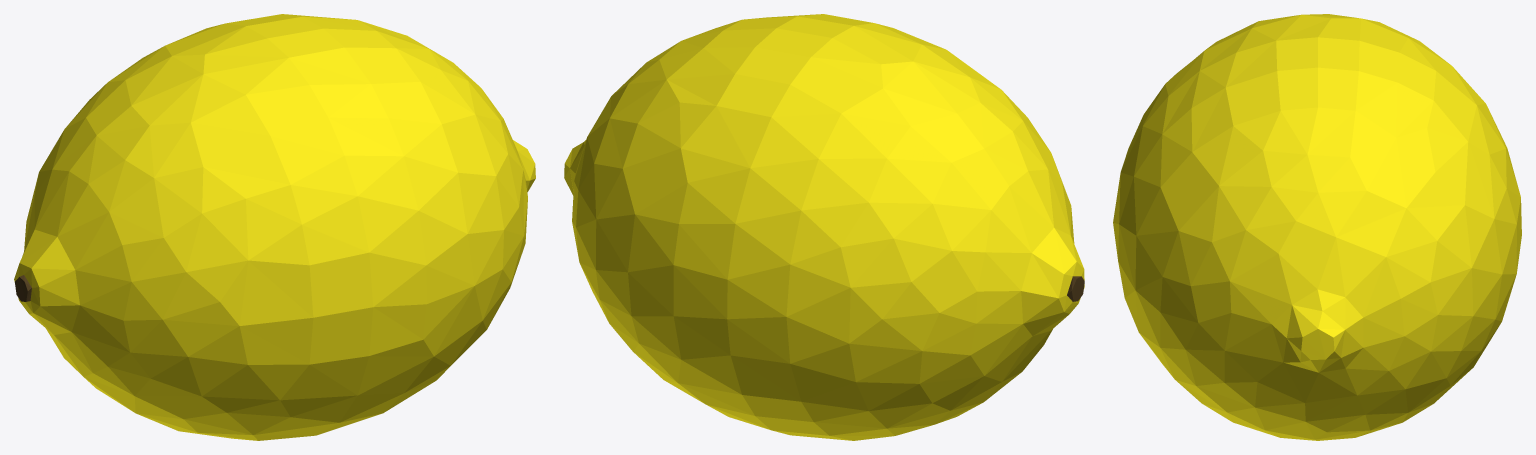
3 renders of one model, left to right at view 1: azimuth 30°, elevation 25°; view 2: azimuth 150°, elevation 25°; view 3: azimuth 270°, elevation 25°, orthographic. The views are drawn at different scales.
Parts seen in each view (by area): view 1: 零件7; view 2: 零件7; view 3: 零件7.
Boxes of the visible parts, x1,y1,x2,y2 form: 零件7: (14,14,535,440); 零件7: (564,14,1084,440); 零件7: (1113,14,1521,440).
Size of the model in its own units: 11092 by 8009 by 8009.
